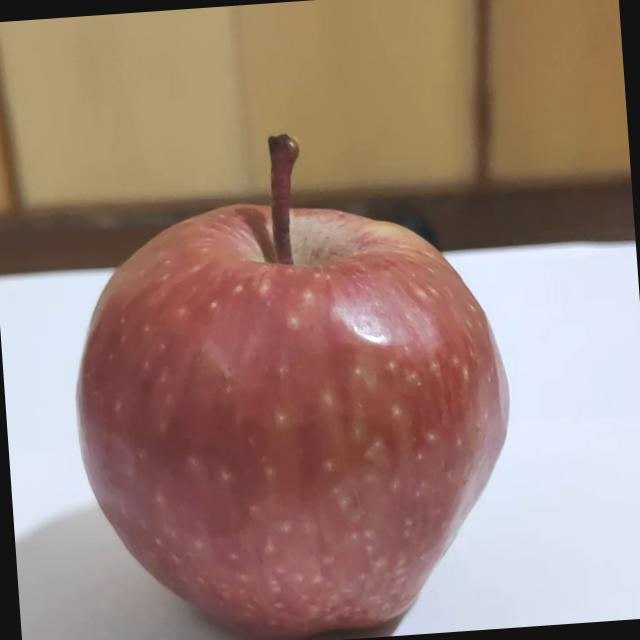apple: (1, 0, 630, 640)
